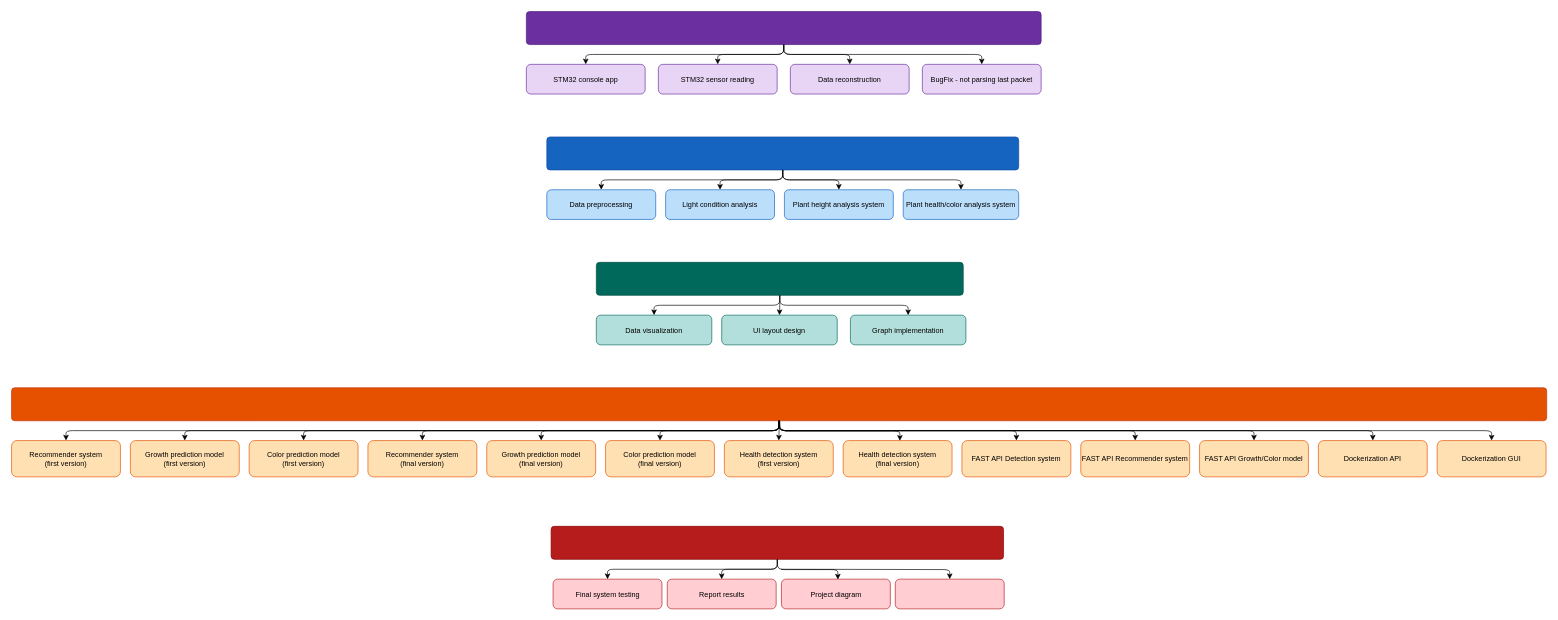
The diagram is 1558 pixels wide and 620 high, and some of its shapes have lost their labels. The shapes that lost their labels are listed below. From the top down, each one's centre as x and y in pixels, then its label:
At (783,28): "DATA ACQUISITION".
At (782,153): "DATA ANALYSIS".
At (779,278): "USER INTERFACE".
At (779,404): "SYSTEM INTEGRATION".
At (777,542): "FINALIZATION".
At (949,593): "Documentation".
